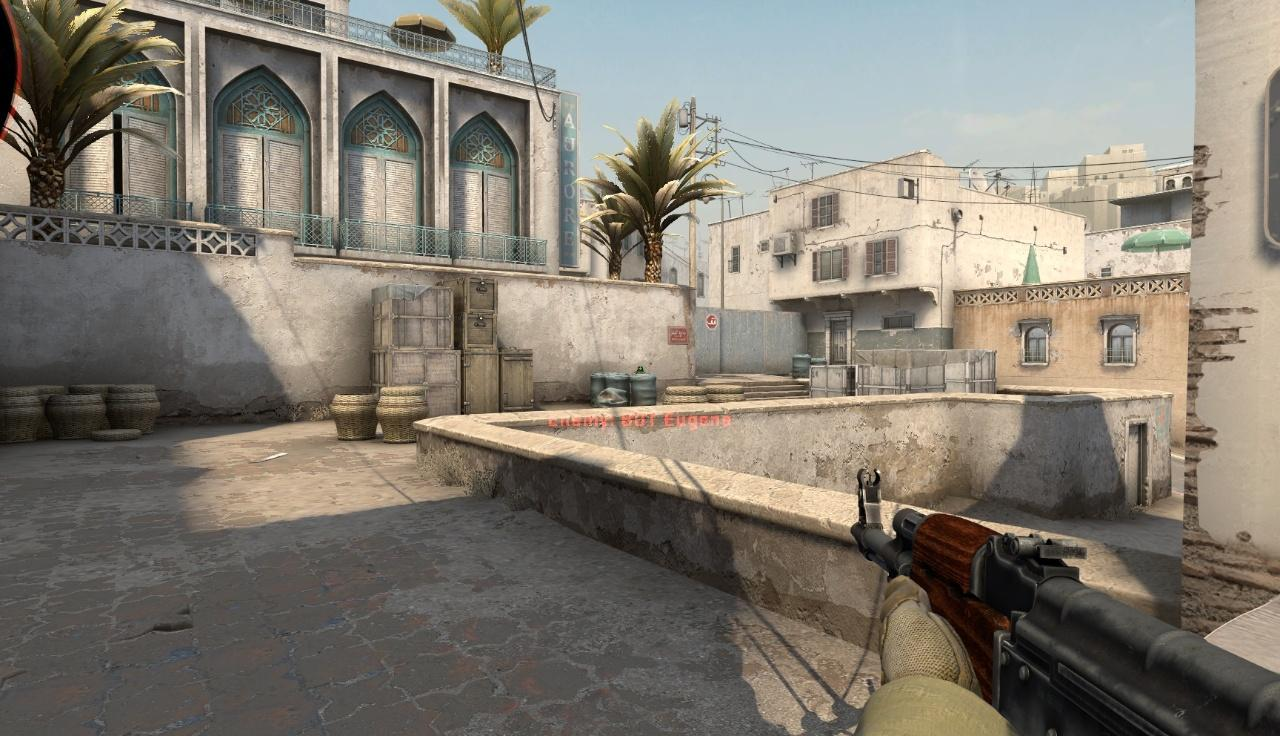rifle: (853, 470, 1280, 736)
